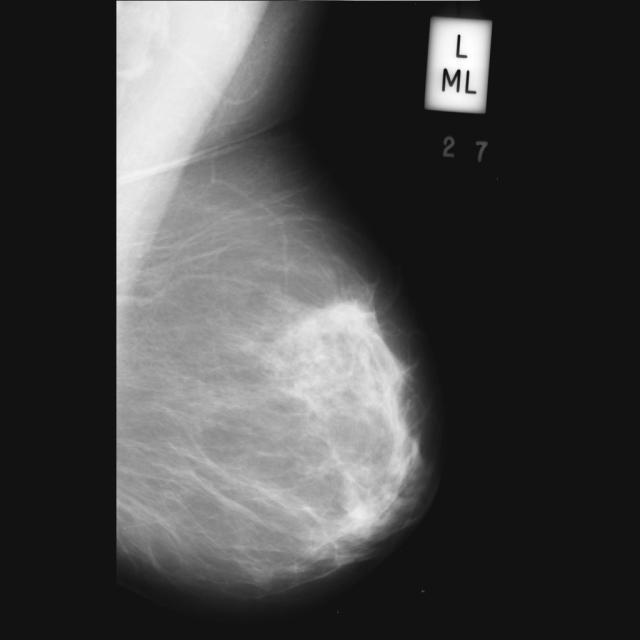ASYM: (331, 299, 367, 335)
